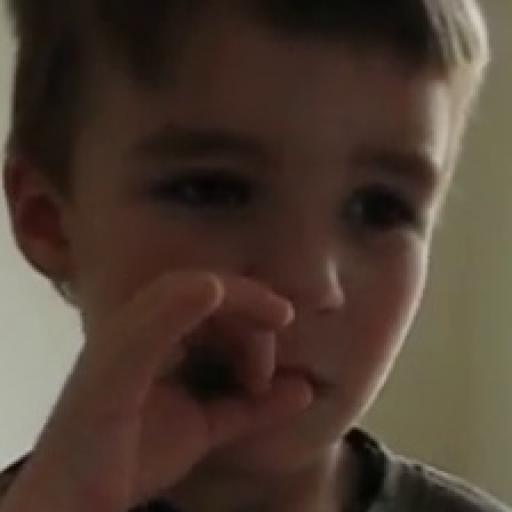Autism: (60, 26, 454, 483)
